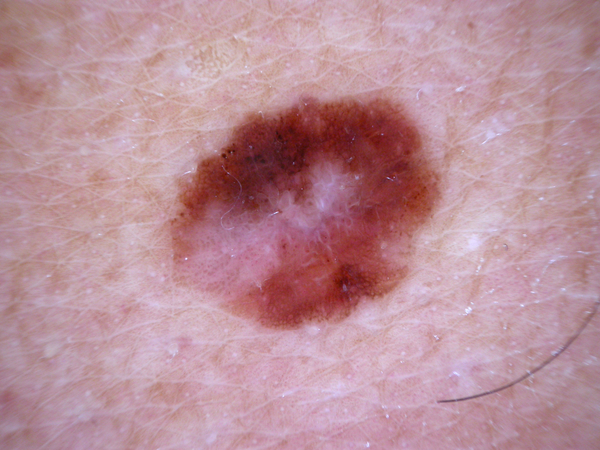Detected Lesion: (150, 89, 440, 335)
